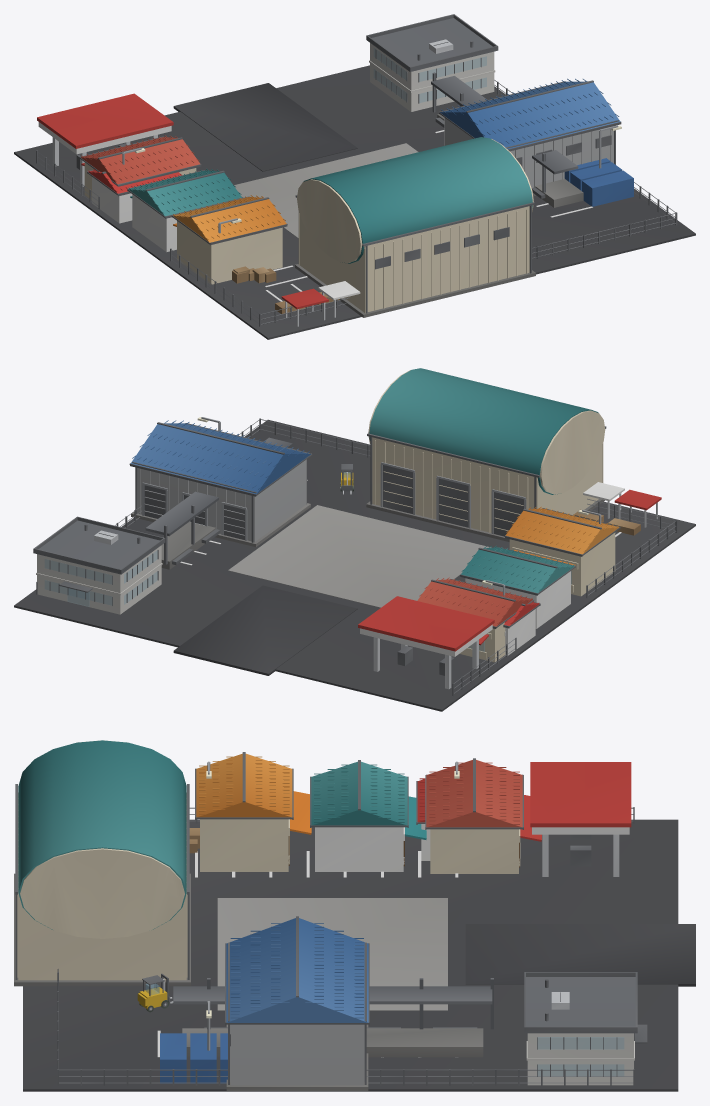
Rendered from Market_P2.fbx.
3 renders of one model, top to bottom at view 1: azimuth 30°, elevation 25°; view 2: azimuth 150°, elevation 25°; view 3: azimuth 270°, elevation 25°, orthographic. The views are drawn at different scales.
Parts seen in each view (by area): view 1: Market.Pad, Market.WH1, Market.WH2, Market.Office, Market.Shop2, Market.Fuel, Market.Shop1, Market.Shop0, Market.Goods, Market.Dock, Market.Fence, Market.FuelShop (+1 smaller); view 2: Market.Pad, Market.WH1, Market.WH2, Market.Office, Market.Fuel, Market.Shop2, Market.Shop1, Market.Shop0, Market.Dock, Market.Fence, Market.Stalls, Market.FuelShop; view 3: Market.Pad, Market.WH1, Market.WH2, Market.Office, Market.Shop2, Market.Shop0, Market.Shop1, Market.Fuel, Market.Dock, Market.Goods, Market.Fence, Market.Fork0 (+1 smaller).
Boxes of the visible parts, <box> form: Market.Pad: <box>14,65,695,339</box>; Market.WH1: <box>295,137,535,317</box>; Market.WH2: <box>439,78,621,196</box>; Market.Office: <box>366,14,498,111</box>; Market.Shop2: <box>171,195,287,284</box>; Market.Fuel: <box>37,93,173,186</box>; Market.Shop1: <box>127,168,242,251</box>; Market.Shop0: <box>79,135,201,199</box>; Market.Goods: <box>232,158,633,283</box>; Market.Dock: <box>431,72,583,207</box>; Market.Fence: <box>36,80,677,326</box>; Market.FuelShop: <box>87,169,181,223</box>; Market.Pad: <box>14,419,695,711</box>; Market.WH1: <box>366,368,606,541</box>; Market.WH2: <box>129,420,312,547</box>; Market.Office: <box>33,516,165,614</box>; Market.Fuel: <box>358,596,494,689</box>; Market.Shop2: <box>504,506,620,596</box>; Market.Shop1: <box>460,545,575,628</box>; Market.Shop0: <box>417,577,534,662</box>; Market.Dock: <box>145,437,292,569</box>; Market.Fence: <box>36,418,677,696</box>; Market.Stalls: <box>573,482,661,535</box>; Market.FuelShop: <box>503,601,540,655</box>; Market.Pad: <box>23,819,695,1091</box>; Market.WH1: <box>14,740,190,986</box>; Market.WH2: <box>225,916,369,1090</box>; Market.Office: <box>524,972,647,1085</box>; Market.Shop2: <box>195,752,311,871</box>; Market.Shop0: <box>425,758,541,873</box>; Market.Shop1: <box>310,760,426,871</box>; Market.Fuel: <box>530,762,631,876</box>; Market.Dock: <box>173,978,493,1057</box>; Market.Goods: <box>160,828,227,1083</box>; Market.Fence: <box>57,807,634,1085</box>; Market.Fork0: <box>137,973,173,1012</box>.
Size of the model in its own units: 7267 by 1751 by 7700.
